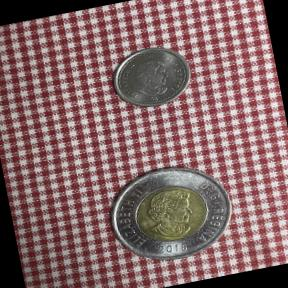Canada-10cent-B: (101, 37, 201, 118)
Canada-2Dollar-B: (94, 150, 244, 275)
